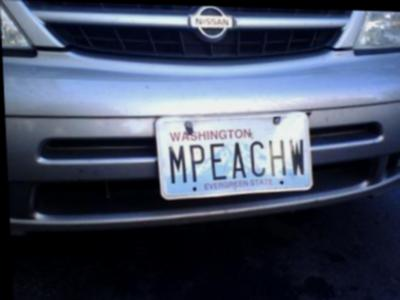License_Plate: (155, 116, 313, 188)
